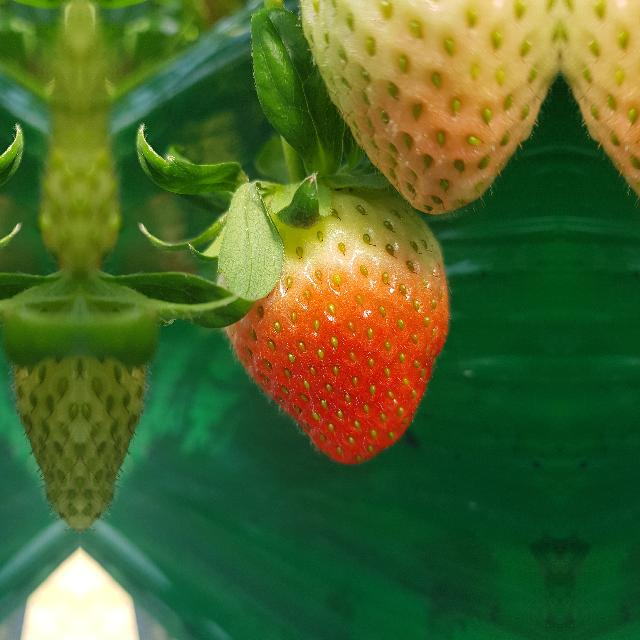Health_50: (293, 1, 559, 212), (561, 1, 640, 212)
Health_75: (215, 187, 451, 466)
